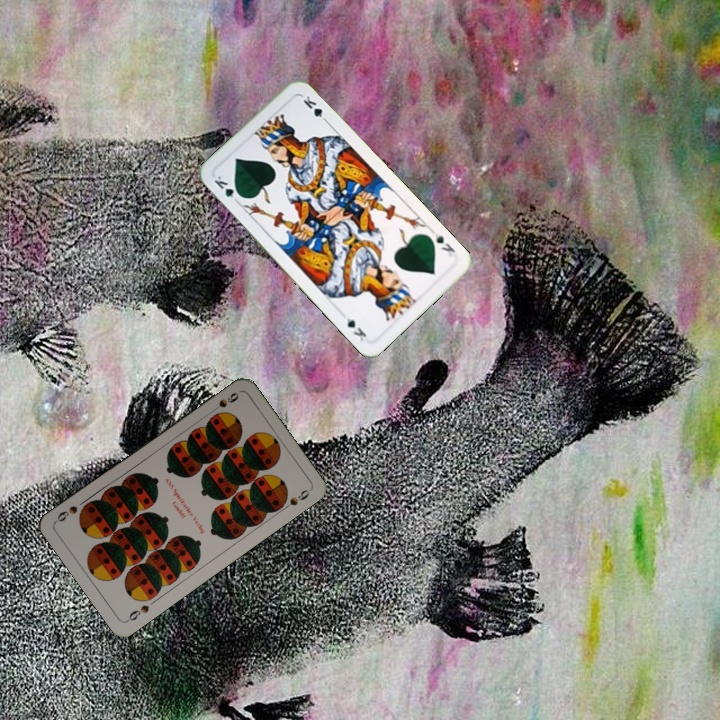GK: (210, 172, 245, 206), (430, 229, 458, 259)
S9: (206, 388, 242, 415), (123, 601, 152, 624)
